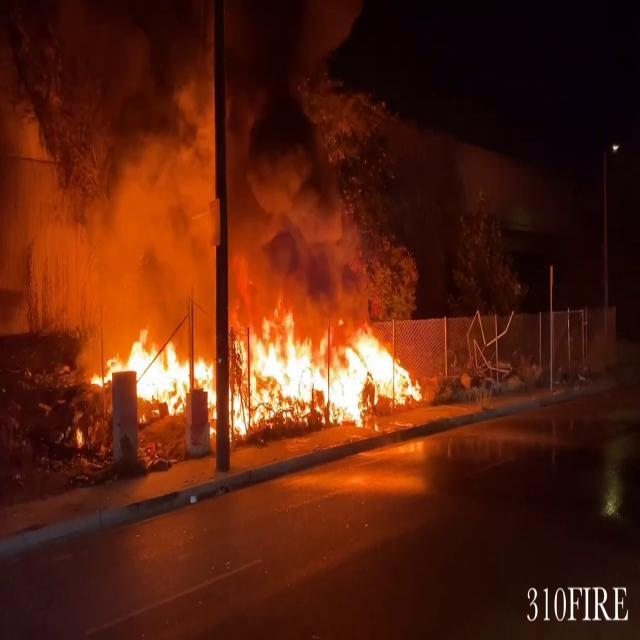Fire: (97, 300, 426, 430)
Smoke: (0, 1, 354, 315)
